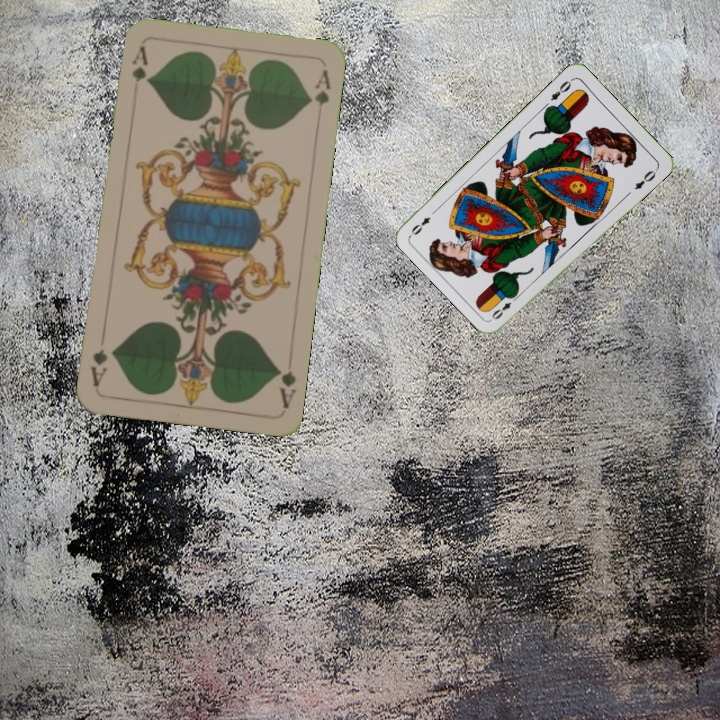EO: (488, 290, 521, 322), (546, 75, 575, 103)
GA: (127, 42, 150, 100), (272, 363, 299, 411)
